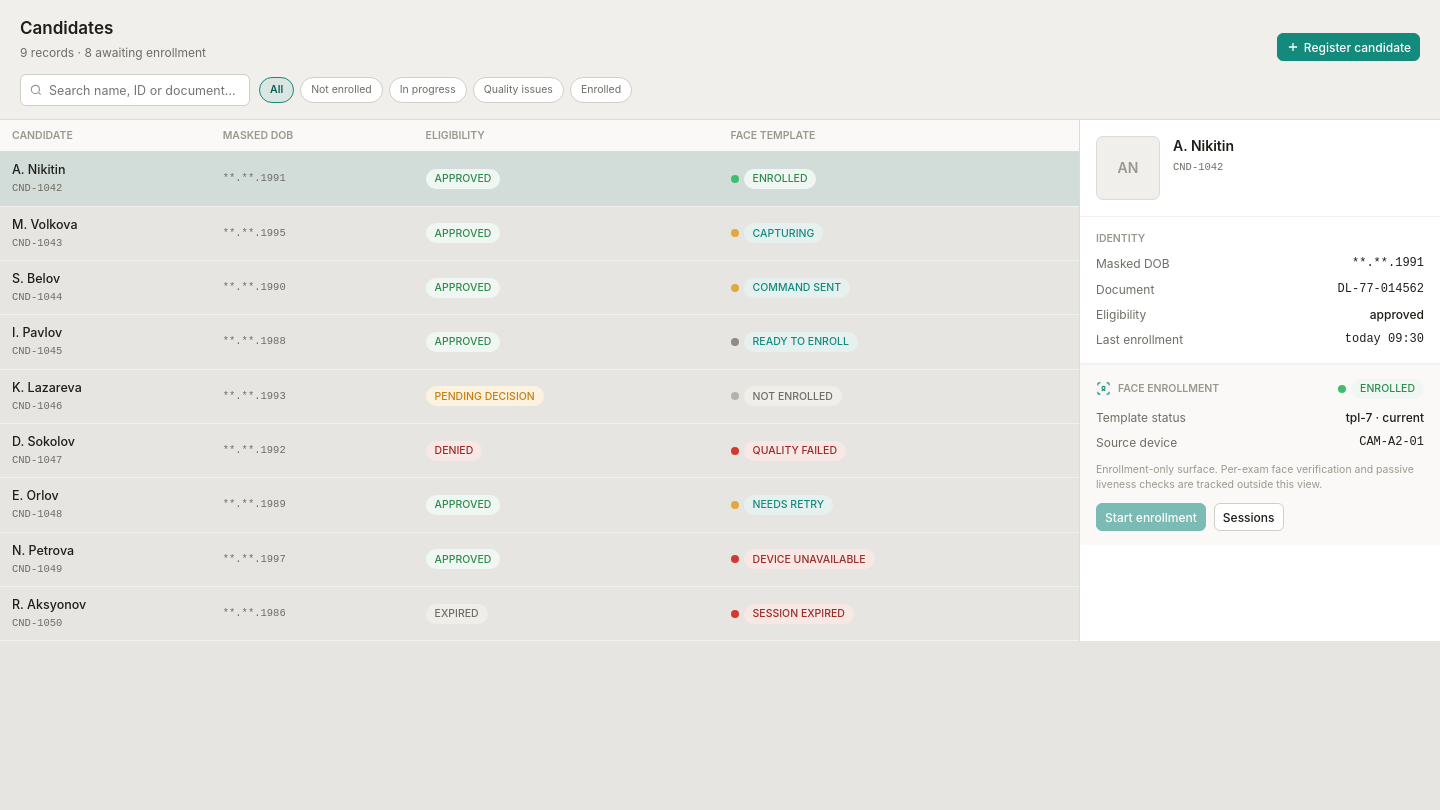
Scenario: CandidatesScreen › opens detail with Identity dl + Face enrollment panel (no verification UI)
The width and height of the screenshot is (1440, 810).
Click the button "K. Lazareva CND-1046" at {"x": 105, "y": 396}, box [12,379,199,414]
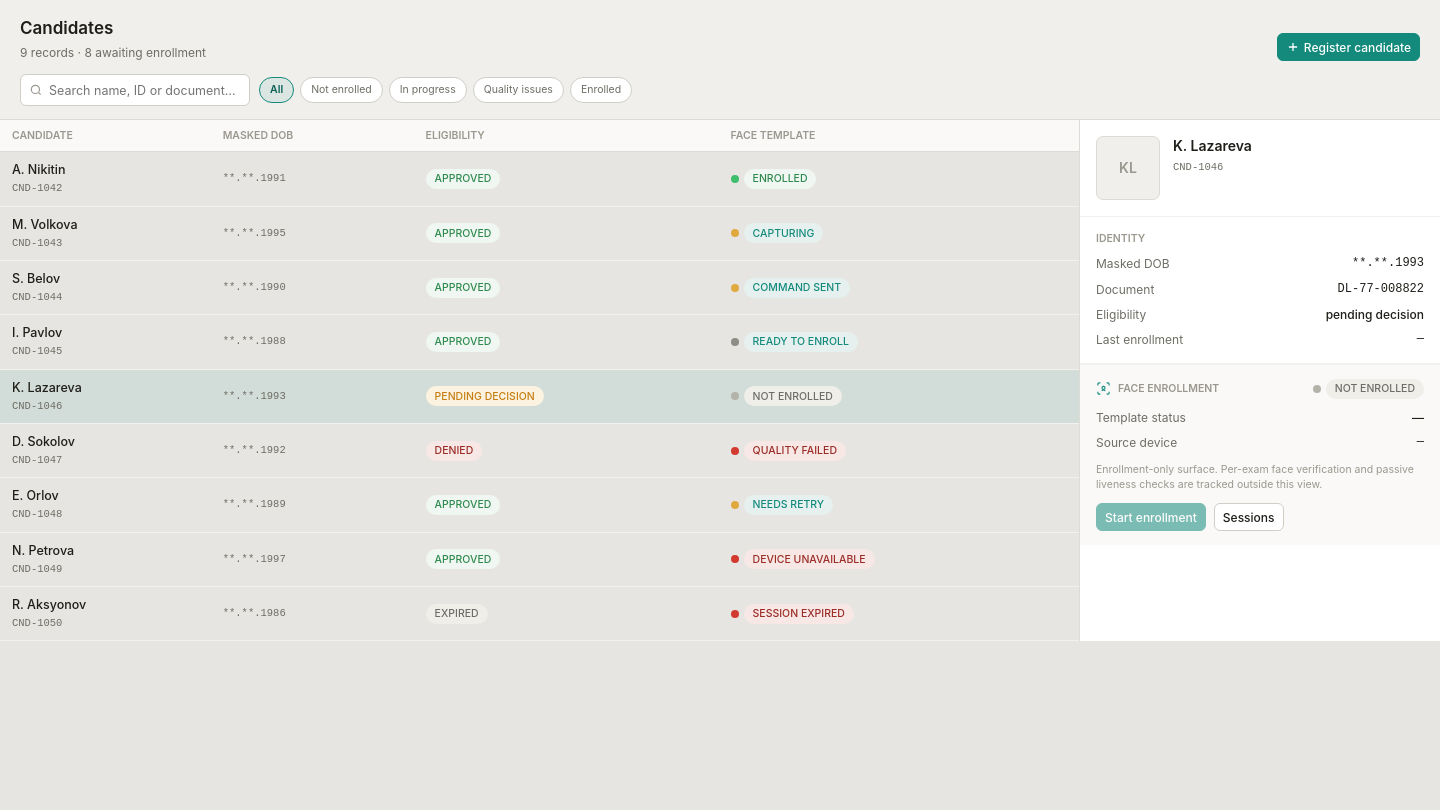
Check: the text "Identity" is shown, box [1096,232,1145,245]
Check: the text "DL-77-008822" is shown, box [1338,281,1424,298]
